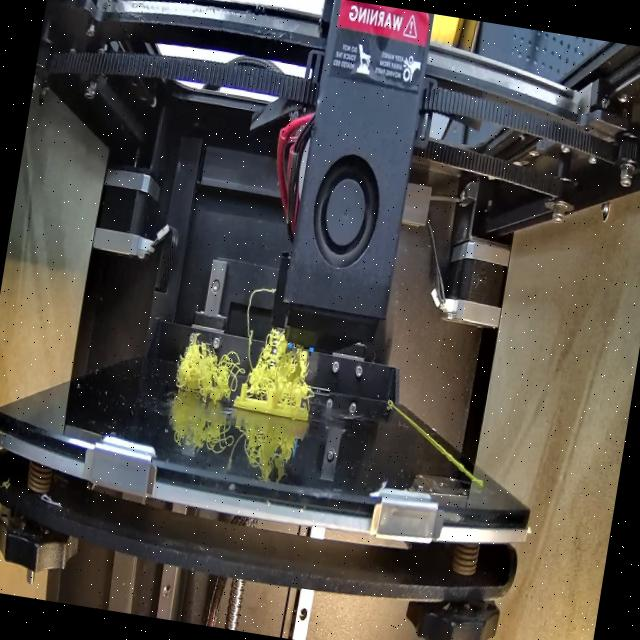spaghetti: (161, 305, 326, 418)
